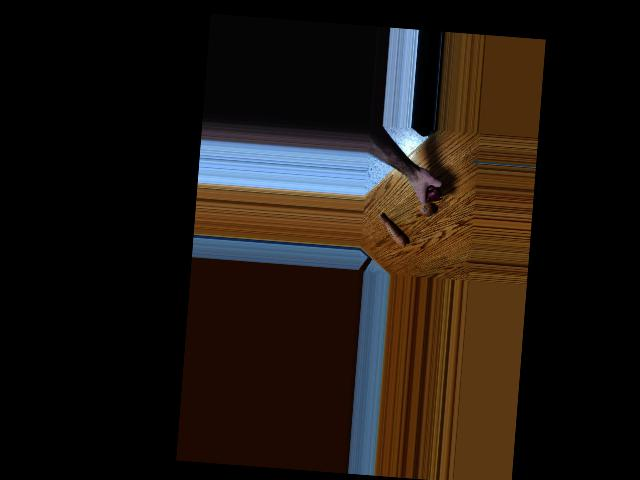onion: (419, 199, 435, 217)
